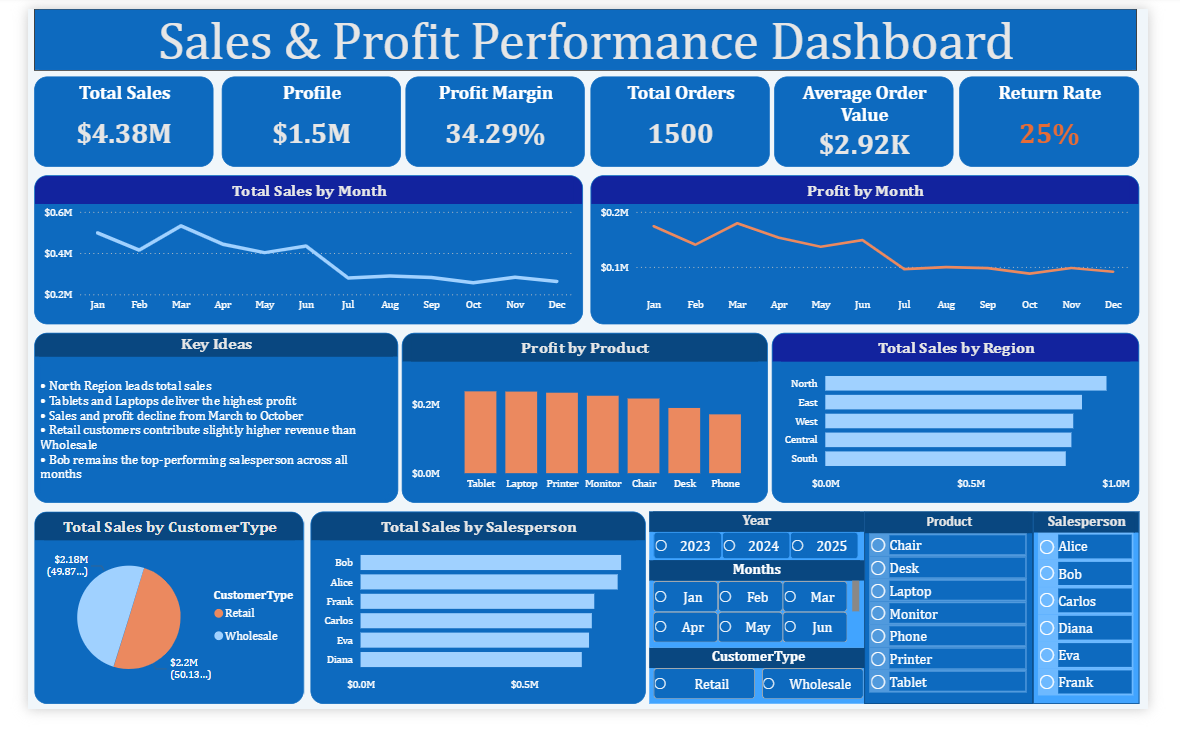

The dashboard page shown, as its layout file describes it:
{"tool":"powerbi","page":{"name":"Page 1","canvas":[1280,800],"ordinal":0},"visuals":[{"type":"textbox","title":"Sales & Profit Performance Dashboard","box":[7.1,0,1260,70],"z":0},{"type":"card","title":"Total Sales","fields":{"Values":["Product-Sales-Region.Total Sales"]},"box":[7.1,77.1,205,102.9],"z":1000},{"type":"card","title":"Profile","fields":{"Values":["Product-Sales-Region.Profit"]},"box":[220.9,77.1,205,102.9],"z":2000},{"type":"card","title":"Profit Margin","fields":{"Values":["Product-Sales-Region.Profit Margin"]},"box":[431.7,77.1,205,102.9],"z":3000},{"type":"card","title":"Total Orders","fields":{"Values":["Product-Sales-Region.Total Orders"]},"box":[642.6,77.1,205,102.9],"z":4000},{"type":"card","title":"Average Order Value","fields":{"Values":["Product-Sales-Region.Average Order Value"]},"box":[853.4,77.1,205,102.9],"z":5000},{"type":"card","title":"Return Rate","fields":{"Values":["Product-Sales-Region.Return Rate"]},"box":[1064.3,77.1,205.7,102.9],"z":6000},{"type":"lineChart","fields":{"Y":["Product-Sales-Region.Total Sales"],"Category":["Product-Sales-Region.Month"]},"box":[7.1,190,627.1,170],"z":7000},{"type":"barChart","fields":{"Y":["Product-Sales-Region.Total Sales"],"Category":["Product-Sales-Region.Region"]},"box":[850,370,420,194.3],"z":8000},{"type":"pieChart","fields":{"Category":["Product-Sales-Region.CustomerType"],"Y":["Product-Sales-Region.Total Sales"]},"box":[7.1,574.3,308,220],"z":9000},{"type":"columnChart","fields":{"Y":["Product-Sales-Region.Profit"],"Category":["Product-Sales-Region.Product"]},"box":[427.1,370,418,194.3],"z":10000},{"type":"barChart","fields":{"Y":["Product-Sales-Region.Total Sales"],"Category":["Product-Sales-Region.Salesperson"]},"box":[322.9,574.3,383,220],"z":11000},{"type":"lineChart","fields":{"Y":["Product-Sales-Region.Profit"],"Category":["Product-Sales-Region.Month"]},"box":[642.9,190,627.1,170],"z":12000},{"type":"advancedSlicerVisual","fields":{"Values":["Product-Sales-Region.Year"]},"box":[710,574.3,245.7,60],"z":13000},{"type":"advancedSlicerVisual","fields":{"Values":["Product-Sales-Region.CustomerType"]},"box":[710,730,250,64.3],"z":14000},{"type":"listSlicer","fields":{"Values":["Product-Sales-Region.Salesperson"]},"box":[1148.6,574.3,121.4,220],"z":15000},{"type":"advancedSlicerVisual","fields":{"Values":["Product-Sales-Region.Month"]},"box":[710,630,245.7,100],"z":16000},{"type":"listSlicer","fields":{"Values":["Product-Sales-Region.Product"]},"box":[955.7,574.3,192.9,220],"z":17000},{"type":"cardVisual","title":"Key Ideas","fields":{"Data":["Product-Sales-Region.Key Ideas"]},"box":[7.1,370,415.7,194.3],"z":18000}]}

Visuals, with their boxes in screenshot pixels (x1, y1, x2, y2), scaled from the page's 1280x800 canvas onto the 1180x743 screenshot:
"Sales & Profit Performance Dashboard" textbox: <box>7,0,1168,65</box>
"Total Sales" card: <box>7,72,196,167</box>
"Profile" card: <box>204,72,393,167</box>
"Profit Margin" card: <box>398,72,587,167</box>
"Total Orders" card: <box>592,72,781,167</box>
"Average Order Value" card: <box>787,72,976,167</box>
"Return Rate" card: <box>981,72,1171,167</box>
lineChart - Product-Sales-Region.Total Sales x Product-Sales-Region.Month: <box>7,176,585,334</box>
barChart - Product-Sales-Region.Total Sales x Product-Sales-Region.Region: <box>784,344,1171,524</box>
pieChart - Product-Sales-Region.CustomerType x Product-Sales-Region.Total Sales: <box>7,533,290,738</box>
columnChart - Product-Sales-Region.Profit x Product-Sales-Region.Product: <box>394,344,779,524</box>
barChart - Product-Sales-Region.Total Sales x Product-Sales-Region.Salesperson: <box>298,533,651,738</box>
lineChart - Product-Sales-Region.Profit x Product-Sales-Region.Month: <box>593,176,1171,334</box>
advancedSlicerVisual - Product-Sales-Region.Year: <box>655,533,881,589</box>
advancedSlicerVisual - Product-Sales-Region.CustomerType: <box>655,678,885,738</box>
listSlicer - Product-Sales-Region.Salesperson: <box>1059,533,1171,738</box>
advancedSlicerVisual - Product-Sales-Region.Month: <box>655,585,881,678</box>
listSlicer - Product-Sales-Region.Product: <box>881,533,1059,738</box>
"Key Ideas" cardVisual: <box>7,344,390,524</box>
